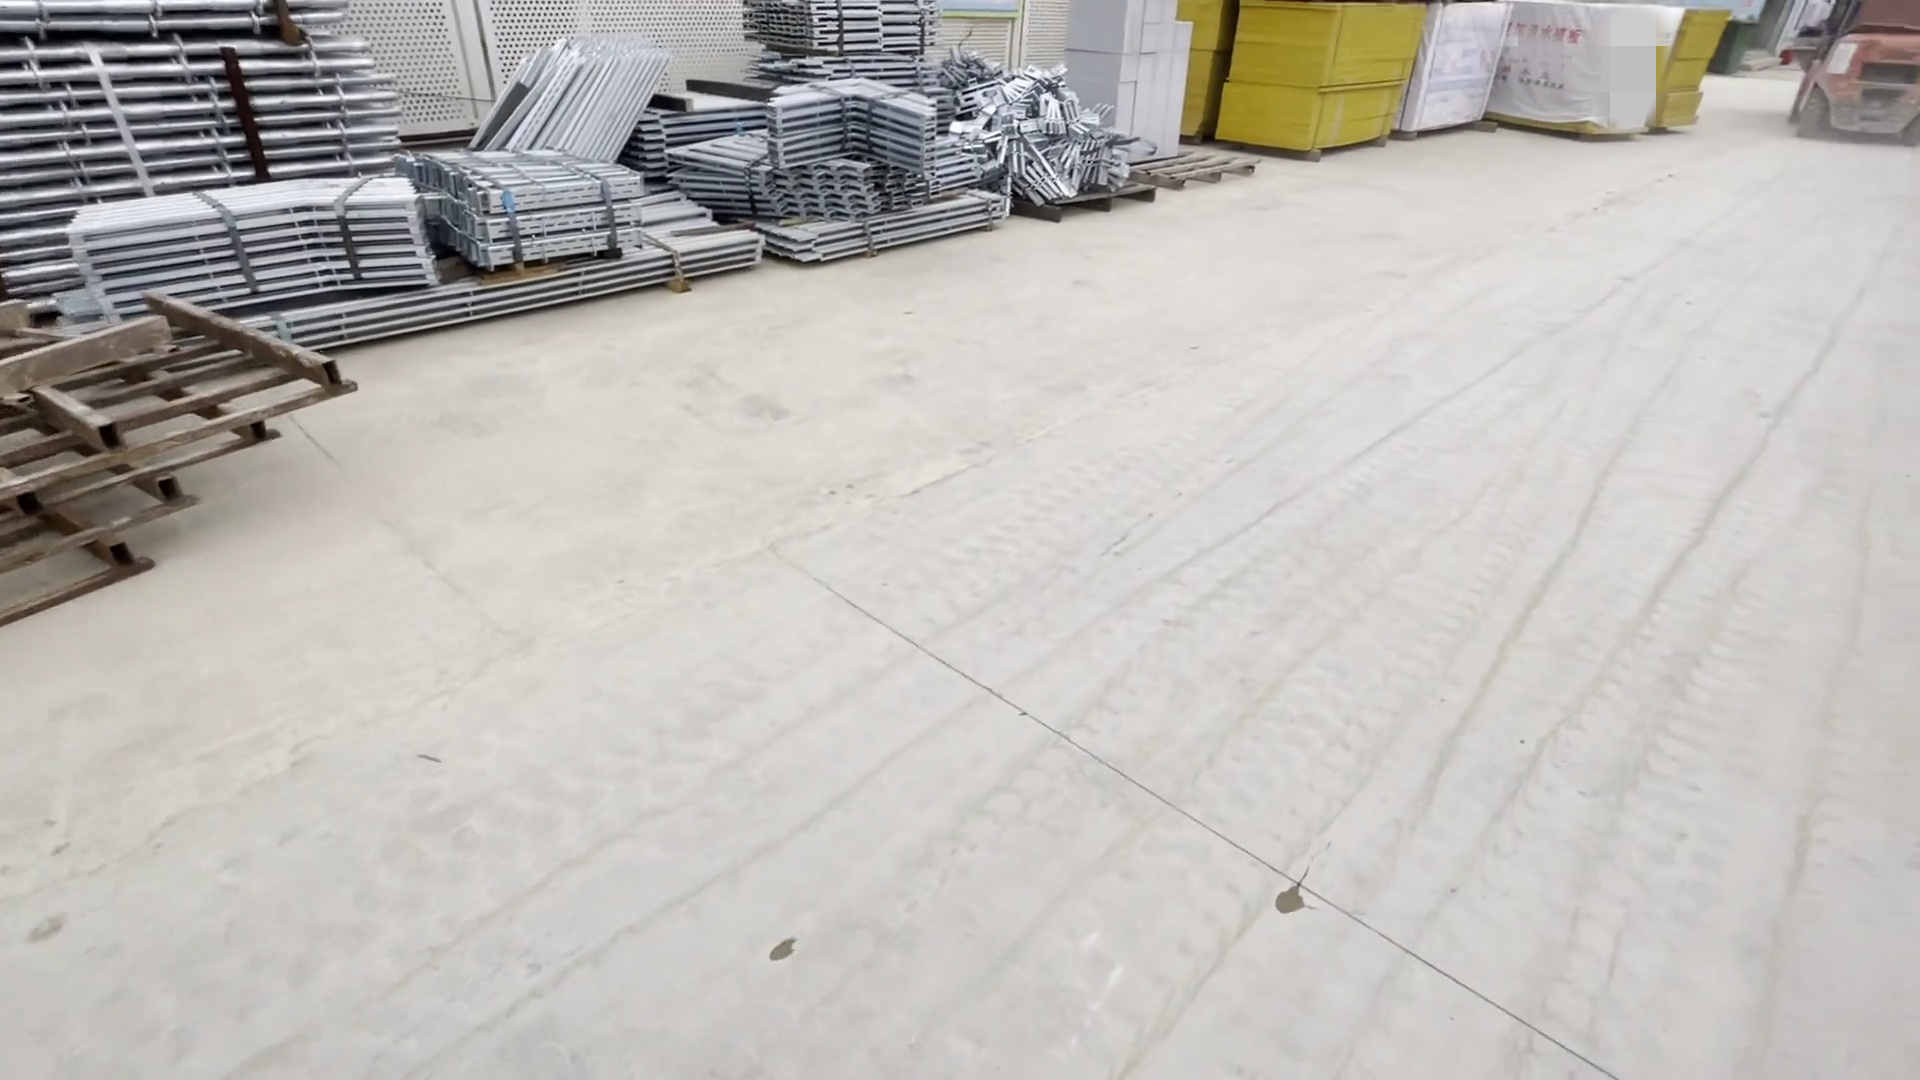board: (1208, 5, 1425, 177)
brick: (1065, 1, 1184, 162)
scaffold: (1, 1, 727, 348), (655, 12, 1153, 285)
